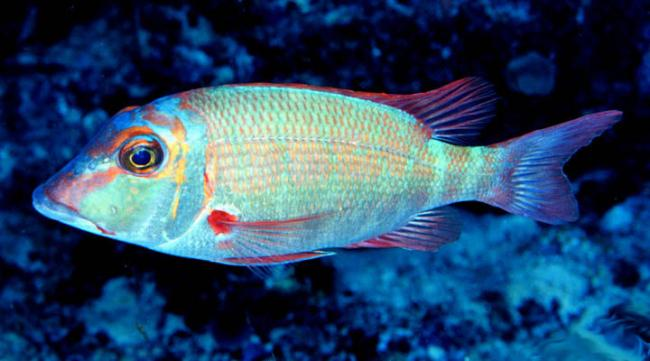fish: (32, 75, 624, 267)
